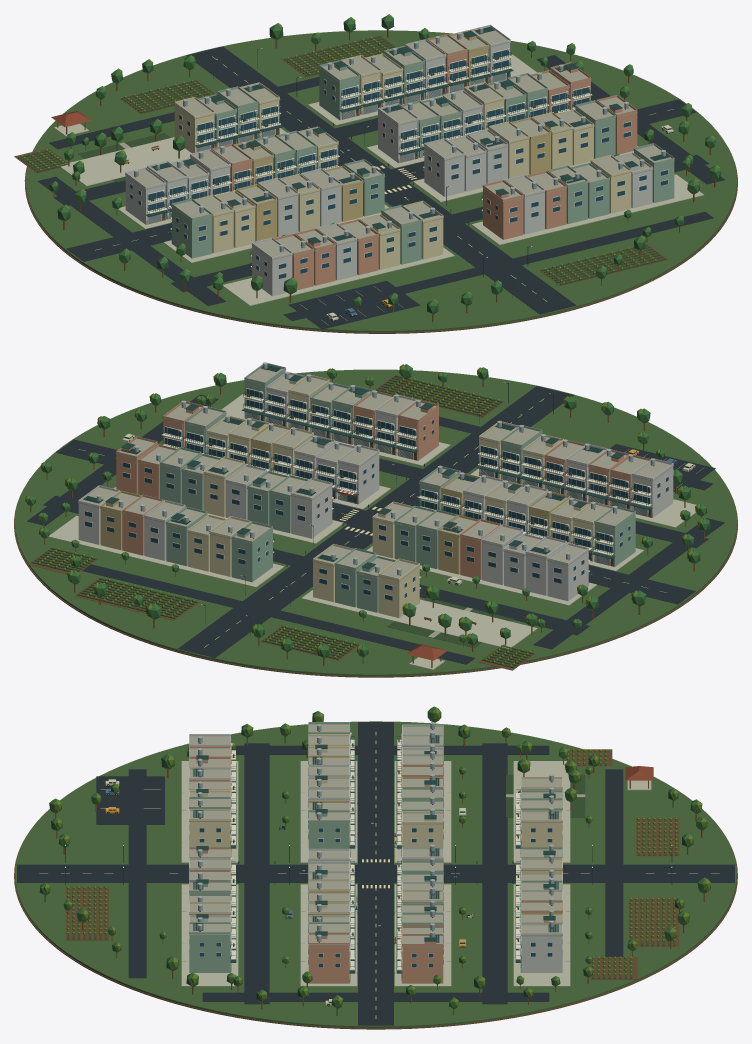
3 views of the same model, one above another, from view 1: azimuth 30°, elevation 25°; view 2: azimuth 150°, elevation 25°; view 3: azimuth 270°, elevation 25° (orthographic).
Visible parts, largest first — view 1: Static / Grass • sage, Static / Asphalt • blue charcoal, Static / Concrete • warm, Static / Wall • cloud, Static / Wall • pale jade, Static / Wall • vanilla, Static / Window • blue glass, Static / Sidewalk • pale sandstone, Static / Wall • warm rose, Static / Trim • warm white, Static / Metal • deep jade, Static / Foliage • green (+8 smaller); view 2: Static / Grass • sage, Static / Asphalt • blue charcoal, Static / Concrete • warm, Static / Wall • cloud, Static / Wall • pale jade, Static / Wall • vanilla, Static / Window • blue glass, Static / Trim • warm white, Static / Sidewalk • pale sandstone, Static / Metal • deep jade, Static / Wall • warm rose, Static / Grass • moss (+9 smaller); view 3: Static / Grass • sage, Static / Asphalt • blue charcoal, Static / Concrete • warm, Static / Sidewalk • pale sandstone, Static / Soil • ochre, Static / Foliage • olive, Static / Wall • pale jade, Static / Wall • vanilla, Static / Metal • deep jade, Static / Wall • warm rose, Static / Foliage • green, Static / Wall • cloud (+7 smaller).
Boxes of the visible parts, x1,y1,x2,y2 form: Static / Grass • sage: [26, 30, 736, 332]; Static / Asphalt • blue charcoal: [37, 46, 724, 329]; Static / Concrete • warm: [76, 30, 674, 286]; Static / Wall • cloud: [125, 24, 652, 296]; Static / Wall • pale jade: [171, 45, 674, 264]; Static / Wall • vanilla: [174, 53, 631, 269]; Static / Window • blue glass: [130, 50, 671, 317]; Static / Sidewalk • pale sandstone: [54, 54, 703, 305]; Static / Wall • warm rose: [211, 34, 637, 290]; Static / Trim • warm white: [130, 48, 672, 319]; Static / Metal • deep jade: [123, 27, 669, 297]; Static / Foliage • green: [49, 15, 720, 314]; Static / Grass • sage: [15, 369, 736, 676]; Static / Asphalt • blue charcoal: [27, 386, 724, 664]; Static / Concrete • warm: [52, 368, 675, 637]; Static / Wall • cloud: [78, 372, 673, 600]; Static / Wall • pale jade: [160, 363, 635, 612]; Static / Wall • vanilla: [187, 375, 612, 617]; Static / Window • blue glass: [85, 389, 693, 600]; Static / Trim • warm white: [84, 382, 668, 616]; Static / Sidewalk • pale sandstone: [48, 394, 696, 669]; Static / Metal • deep jade: [83, 365, 654, 635]; Static / Wall • warm rose: [116, 391, 650, 579]; Static / Grass • moss: [31, 375, 533, 668]; Static / Grass • sage: [15, 721, 736, 1028]; Static / Asphalt • blue charcoal: [17, 722, 734, 1025]; Static / Concrete • warm: [182, 724, 585, 983]; Static / Sidewalk • pale sandstone: [181, 761, 651, 986]; Static / Soil • ochre: [14, 749, 737, 1029]; Static / Foliage • olive: [44, 708, 710, 1006]; Static / Wall • pale jade: [189, 722, 562, 972]; Static / Wall • vanilla: [189, 734, 562, 921]; Static / Metal • deep jade: [65, 729, 672, 973]; Static / Wall • warm rose: [189, 746, 562, 983]; Static / Foliage • green: [39, 706, 710, 1009]; Static / Wall • cloud: [189, 724, 562, 972].
Size of the model in its own units: 201 by 14.84 by 201.
